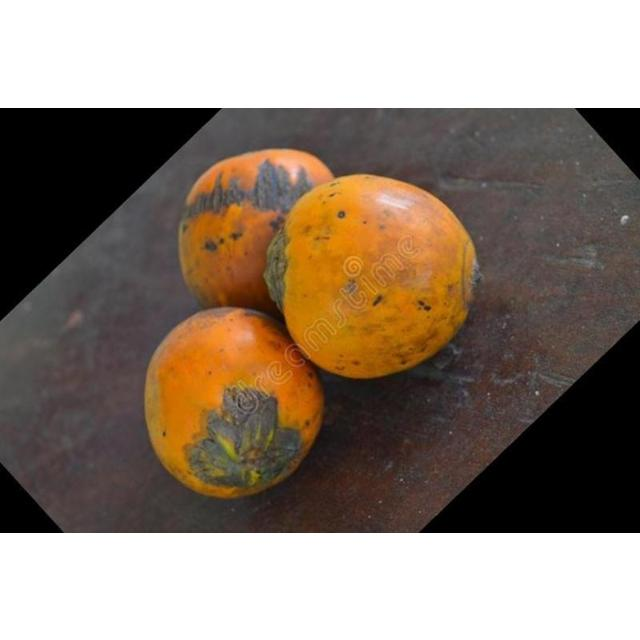good: (266, 174, 478, 381), (143, 306, 326, 500), (178, 149, 334, 317)
